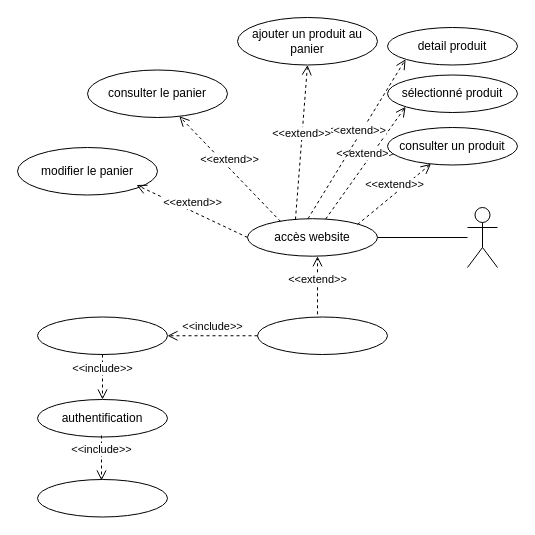
The diagram is 535 pixels wide and 535 high, and some of its shapes have lost their labels. Here are the shapes that lost their labels. From the top down, the centre of each, then its label:
At point 482,237: "Visiteur".
At point 102,335: "inscription".
At point 322,335: "achat".
At point 102,497: "rôle user".
